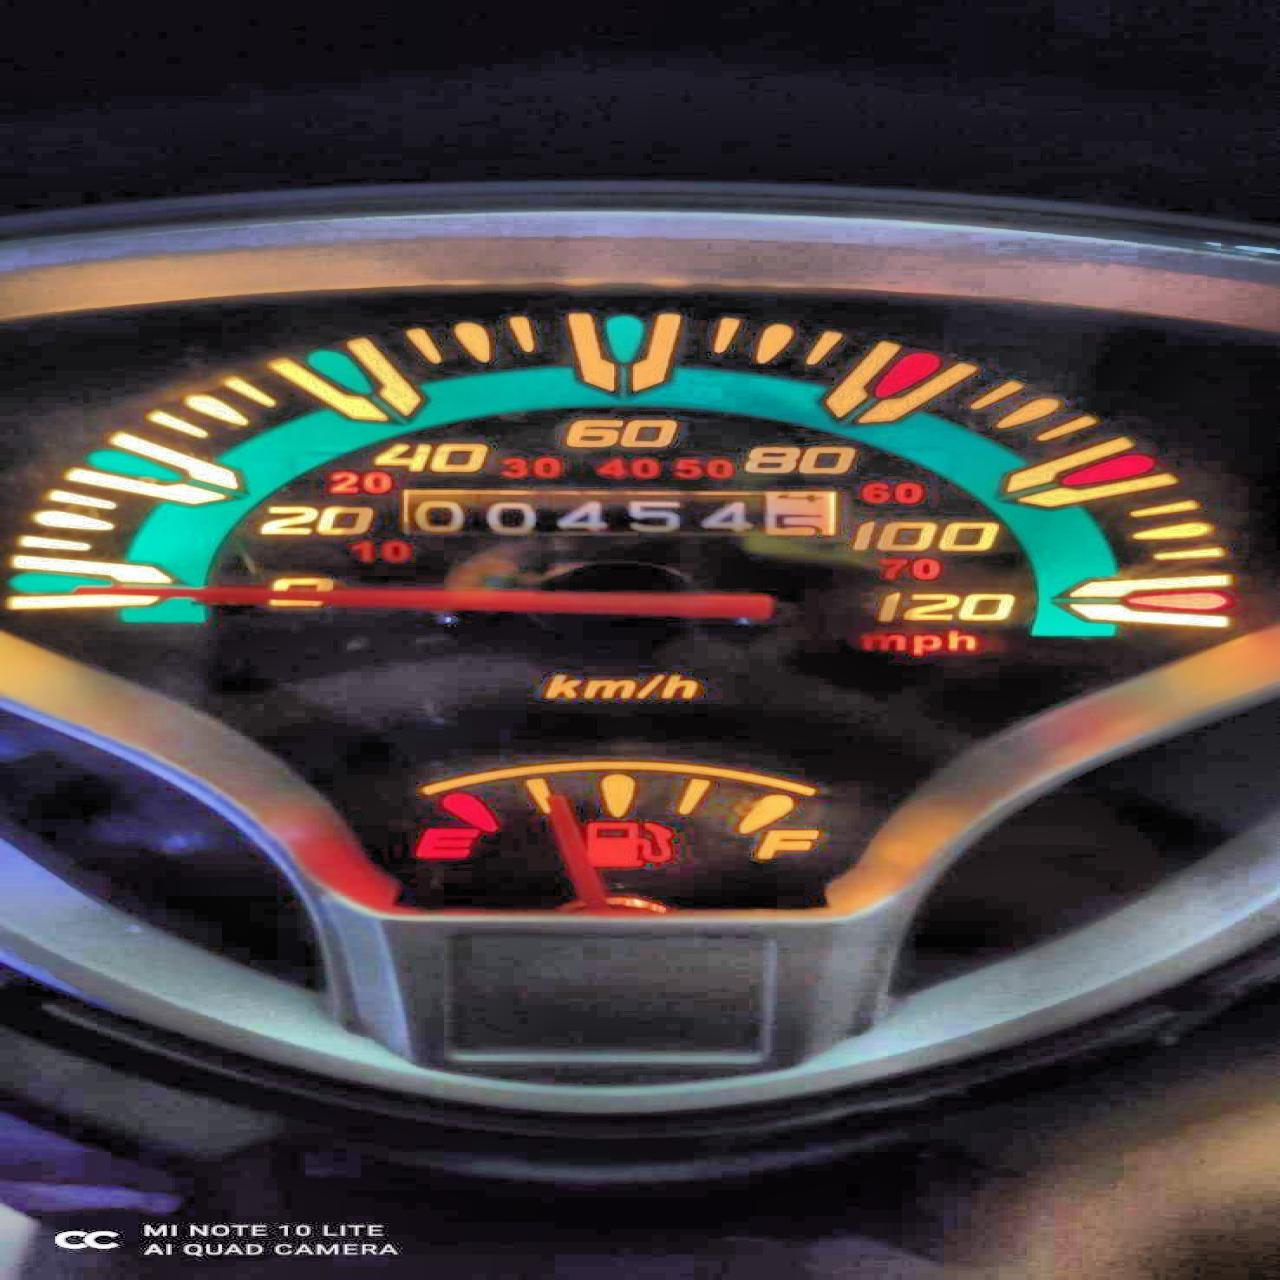0: (484, 499, 538, 533), (413, 498, 465, 531)
4: (695, 497, 762, 532), (557, 497, 612, 532)
5: (622, 498, 681, 533), (768, 508, 831, 536)
odometer: (395, 490, 853, 538)
